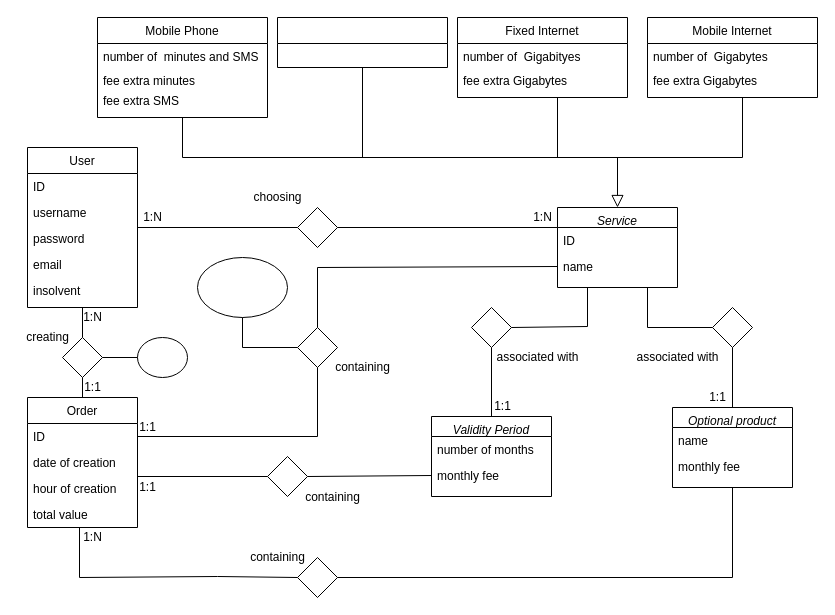
Image size: 835x615. Some labels were removed from this diagram. Here are the shapes that lost their labels. From the top down, the centre of each, then its label:
At point (362, 42): "Fixed Phone".
At point (242, 287): "start date of subscription".
At point (162, 357): "valid".
